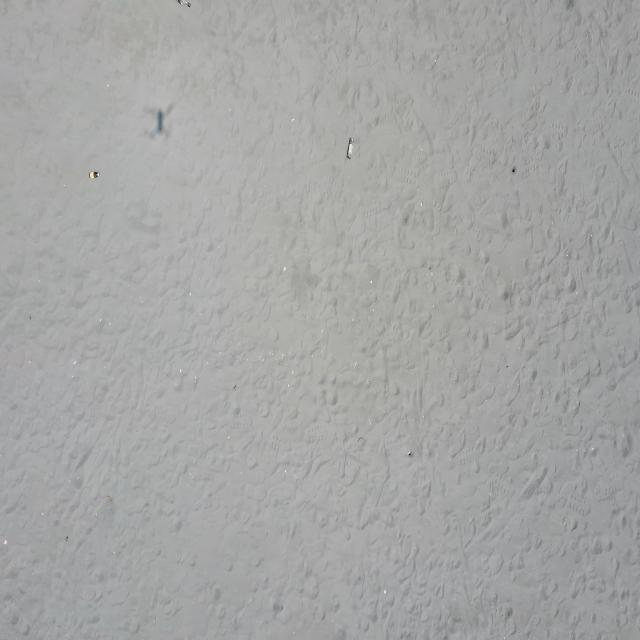glass: (346, 138, 354, 160), (179, 0, 191, 10), (89, 171, 100, 178)
